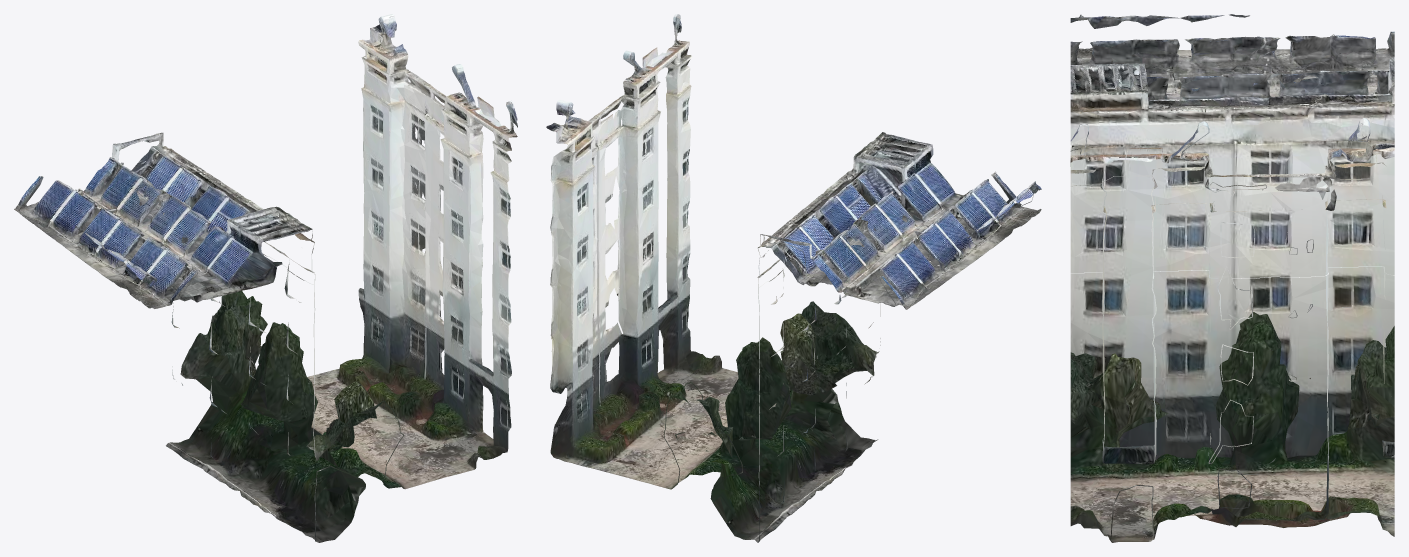
Rendered from BlockBBYX_L20_15.glb.
3 renders of one model, left to right at view 1: azimuth 30°, elevation 25°; view 2: azimuth 150°, elevation 25°; view 3: azimuth 270°, elevation 25°, orthographic. The views are drawn at different scales.
Visible parts, largest first — view 1: rtc; view 2: rtc; view 3: rtc.
Part boxes in pixels (bbox=[...]): rtc: bbox=[14, 14, 517, 542]; rtc: bbox=[546, 14, 1041, 542]; rtc: bbox=[1070, 14, 1394, 542].
Bounding box in the file's own units: 21.7 × 22.08 × 14.01.
Materials: 2 (2 with a texture image).
